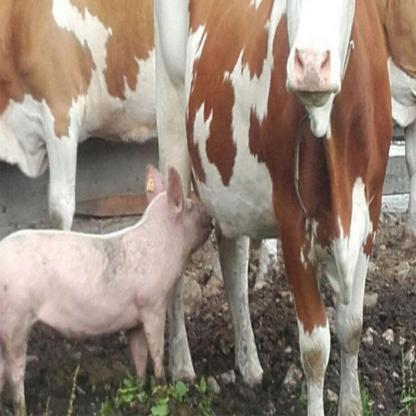cow: (186, 0, 391, 414), (0, 0, 156, 233)
